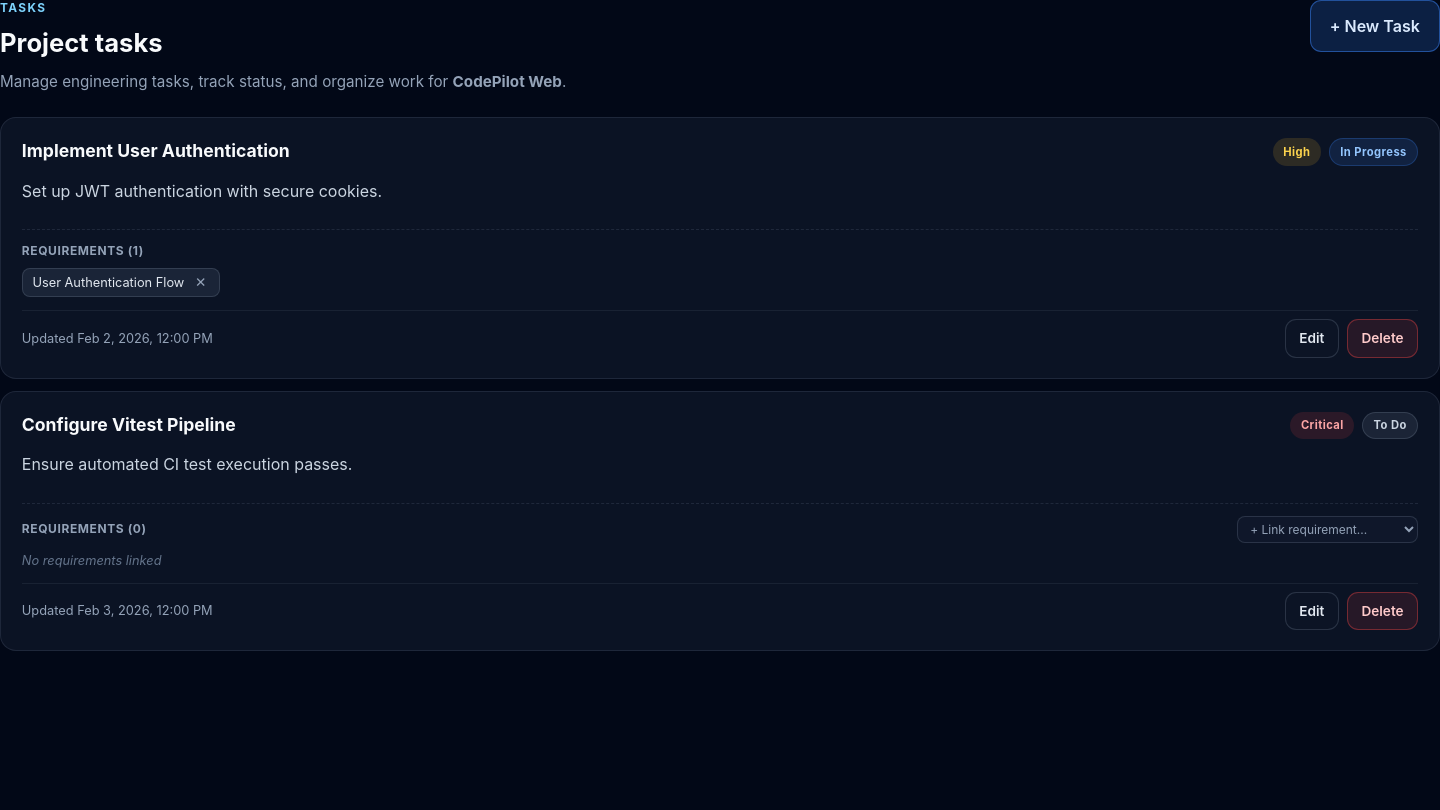
Test case: TasksPage › opens edit form populated with task data and saves partial changes
The image size is (1440, 810).
Expected: the heading "Implement User Authentication" is shown, [22,140,290,161]
Click the button named "Edit Implement User Authentication".
click(1312, 338)  # box [1285,319,1339,358]
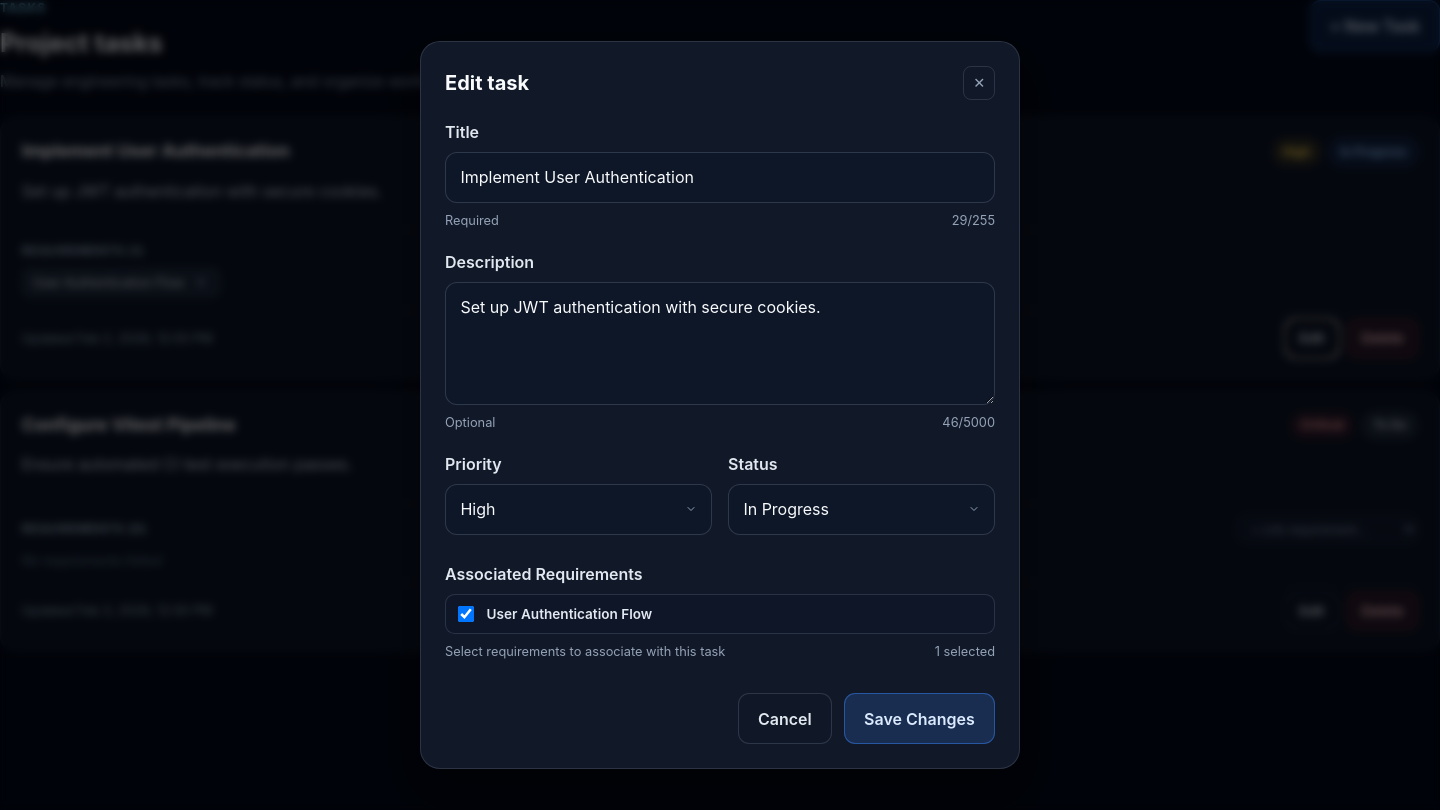
Now the dialog "Edit task" is shown, box [420,41,1020,769]
Now the field labelled "Title" holds "Implement User Authentication"
Now the dropdown labelled "Status" shows "In Progress", box [728,484,995,535]
Replace the text in the field labelled "Title" with "Updated Auth Title" at (720, 177), box [445,152,995,203]
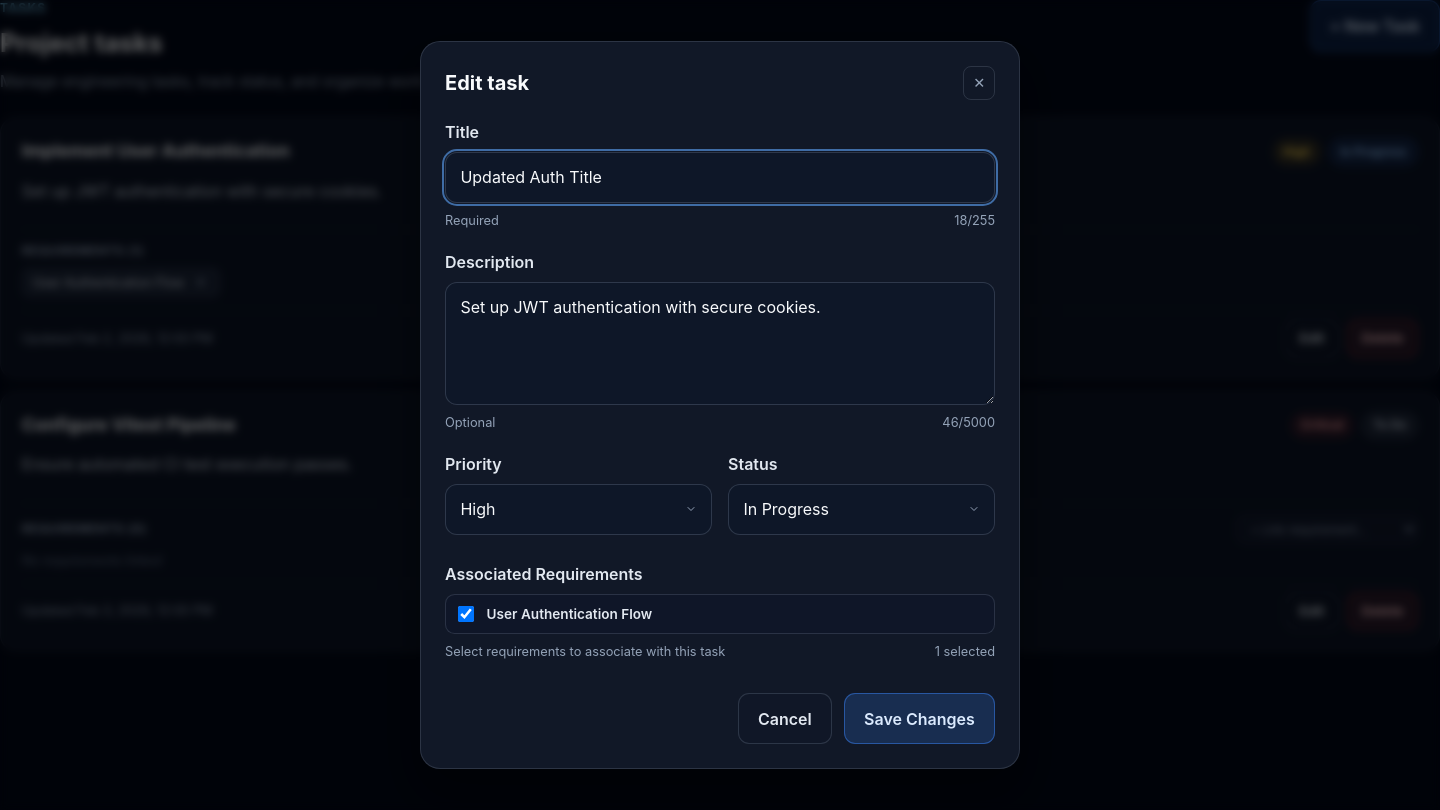
Select "Completed" in the dropdown labelled "Status" at (862, 509), box [728,484,995,535]
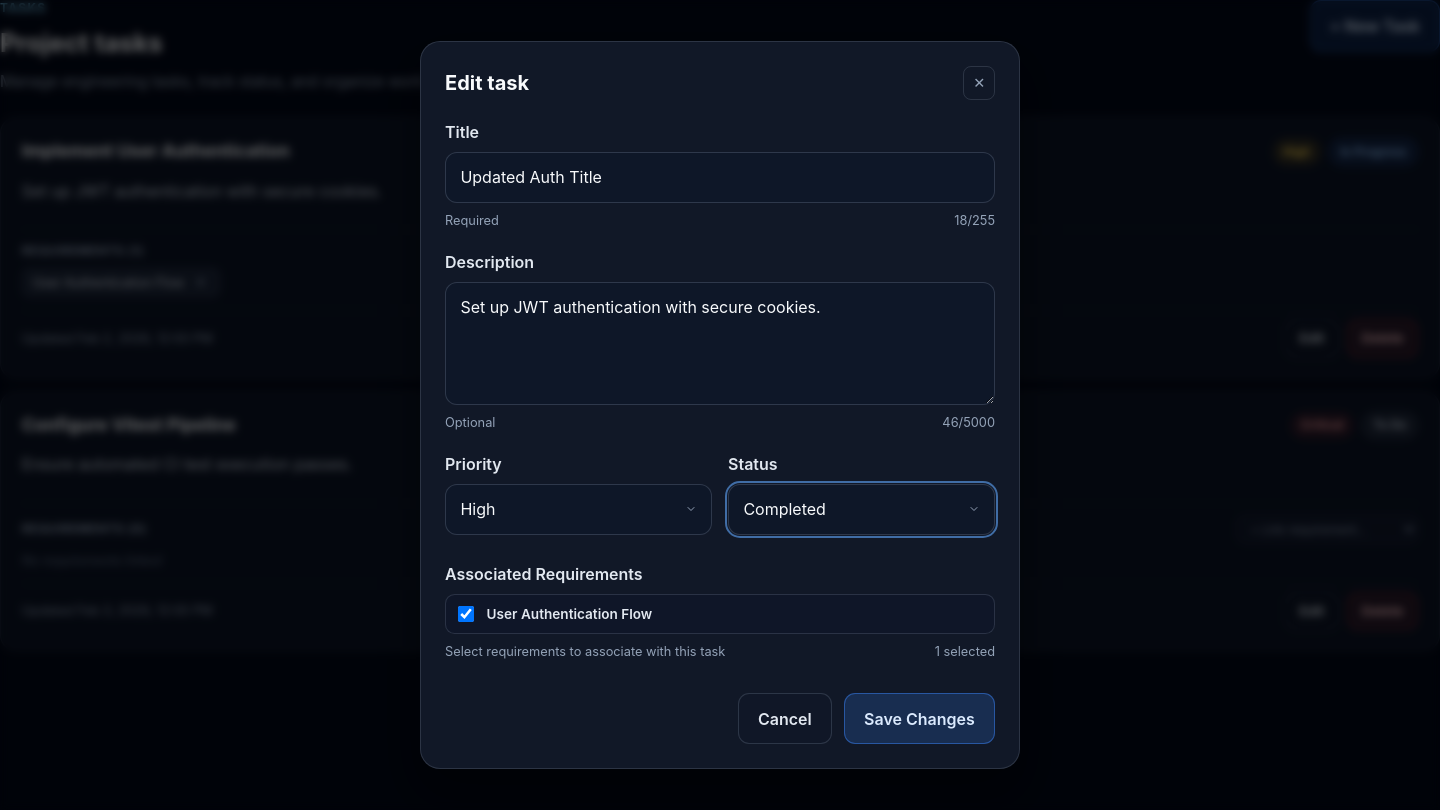
Click the button "Save Changes".
click(919, 718)  # box [844,693,995,744]
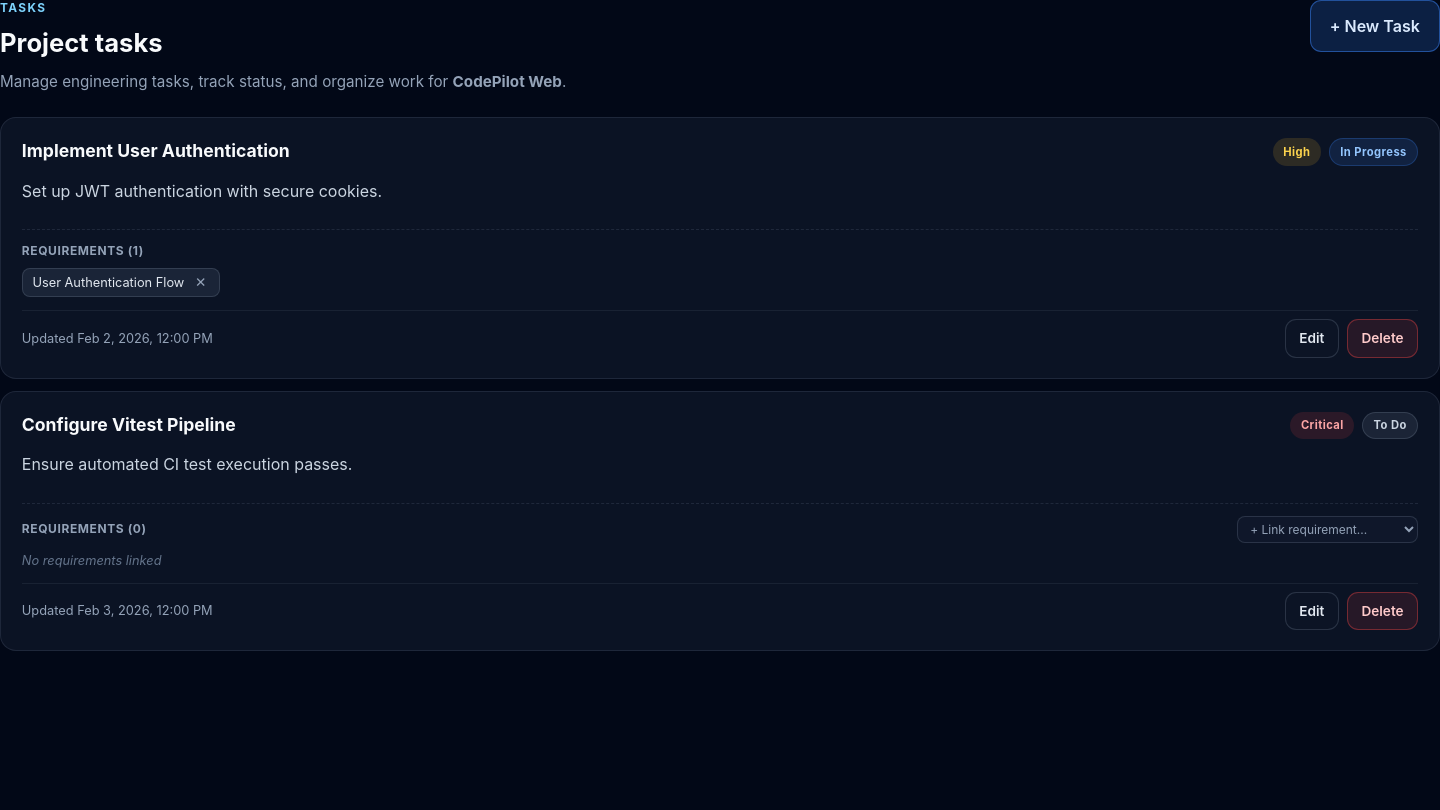
Now the dialog is gone
